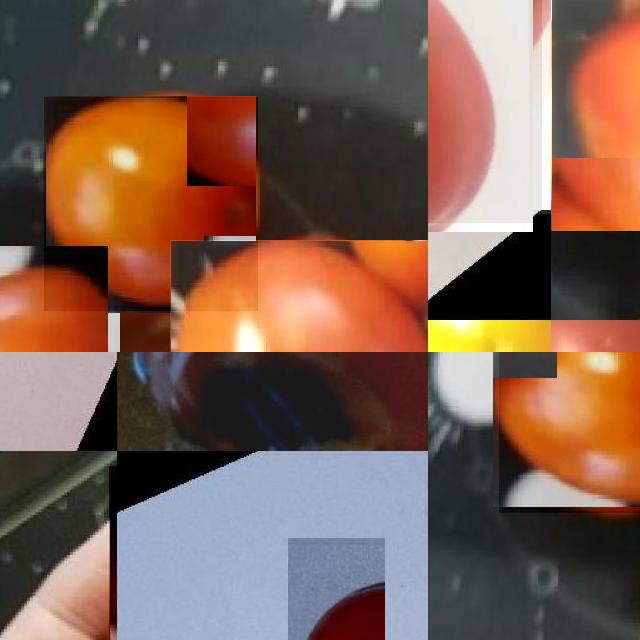Fresh Tomato: (44, 97, 258, 311), (170, 240, 428, 352), (428, 0, 542, 223), (499, 352, 640, 512), (551, 0, 640, 231), (0, 251, 114, 352), (232, 592, 428, 640)
Rotten Tomato: (117, 352, 428, 451)
